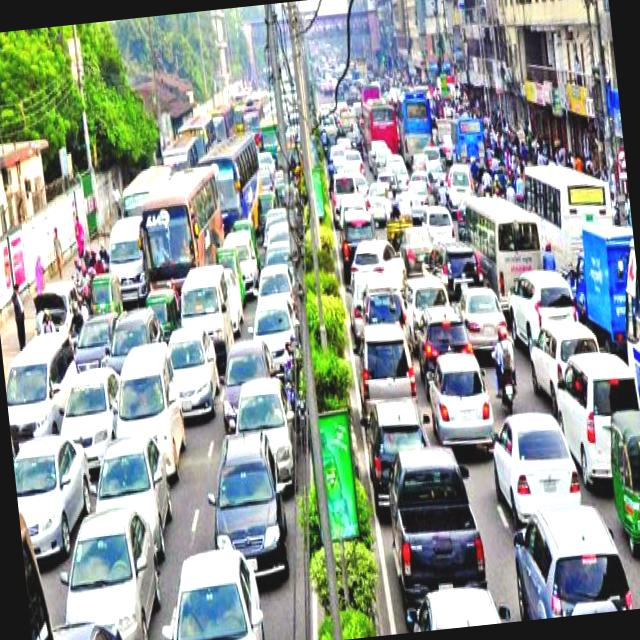bus: (147, 159, 223, 254), (522, 154, 614, 228), (475, 189, 543, 269), (214, 132, 261, 194), (396, 86, 435, 146), (450, 110, 488, 161), (362, 92, 399, 138), (159, 130, 200, 166), (121, 164, 147, 207), (196, 108, 217, 146), (214, 98, 236, 134), (242, 97, 262, 127), (232, 94, 242, 128)
car: (508, 498, 634, 616), (206, 426, 294, 582), (61, 508, 162, 620), (163, 541, 264, 640), (490, 405, 573, 515), (93, 430, 174, 524), (13, 428, 94, 512), (432, 350, 496, 439), (403, 578, 512, 628), (178, 321, 222, 420), (360, 392, 430, 449), (510, 264, 578, 320), (69, 368, 120, 440), (238, 372, 294, 427), (463, 280, 502, 344), (247, 291, 299, 338), (430, 232, 482, 278), (220, 334, 274, 374), (356, 232, 404, 271), (76, 310, 108, 368), (32, 274, 80, 312), (56, 616, 129, 640), (528, 324, 561, 374), (256, 259, 294, 294), (404, 272, 444, 304), (403, 222, 428, 266), (341, 205, 374, 238), (240, 226, 260, 275), (428, 202, 456, 234), (262, 236, 296, 262), (368, 177, 388, 220), (412, 176, 432, 204), (267, 216, 292, 238), (344, 146, 365, 168), (396, 156, 412, 184), (429, 140, 447, 158), (373, 146, 387, 166), (259, 147, 275, 162), (331, 140, 344, 158), (412, 150, 430, 162)
motorcycle: (607, 407, 640, 549), (493, 355, 525, 410), (292, 380, 314, 450), (88, 266, 120, 308), (154, 282, 180, 328), (256, 185, 280, 206), (76, 272, 91, 304), (214, 244, 240, 262), (232, 214, 255, 227), (482, 178, 494, 192), (474, 170, 480, 191), (322, 136, 329, 154)
truck: (382, 435, 489, 588), (110, 334, 184, 434), (561, 349, 612, 482), (3, 329, 63, 426), (570, 220, 628, 320), (357, 318, 418, 397), (178, 260, 232, 326), (113, 216, 147, 296), (361, 278, 408, 320), (446, 156, 474, 193), (260, 116, 280, 146), (331, 170, 356, 191), (322, 110, 337, 130)
